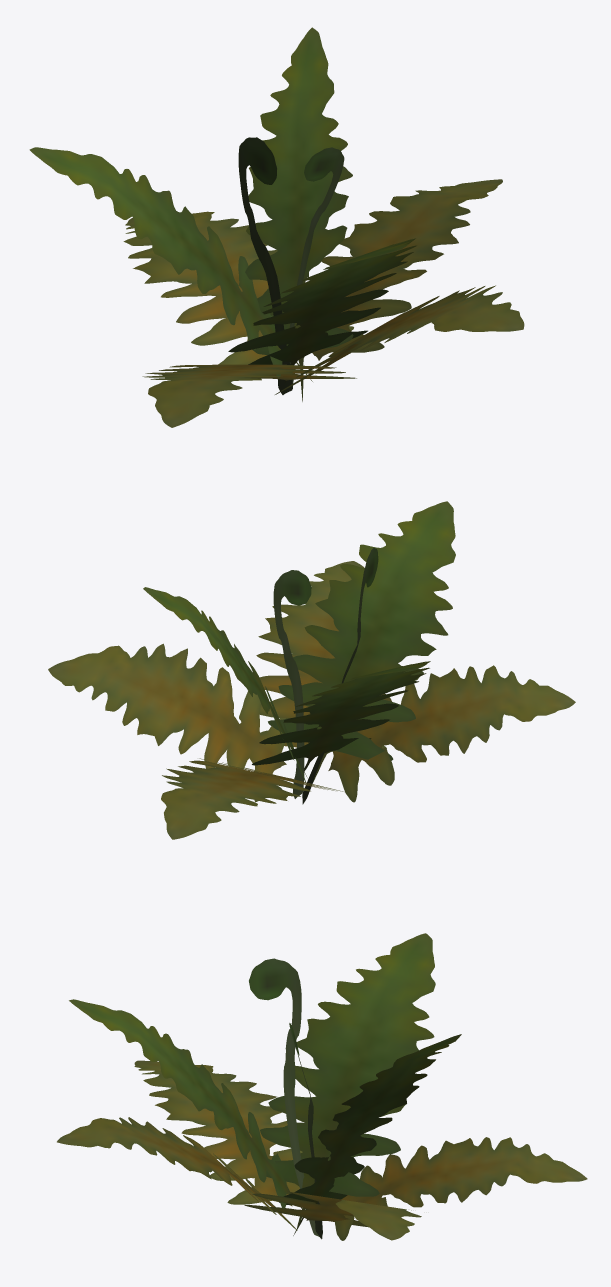
Rendered from Fern1.fbx.
3 renders of one model, top to bottom at view 1: azimuth 30°, elevation 25°; view 2: azimuth 150°, elevation 25°; view 3: azimuth 270°, elevation 25°, orthographic. The views are drawn at different scales.
Parts seen in each view (by area): view 1: Fern1; view 2: Fern1; view 3: Fern1.
Boxes of the visible parts, left/top/right/bottom form: Fern1: left=29, top=27, right=524, bottom=427; Fern1: left=48, top=501, right=575, bottom=839; Fern1: left=57, top=933, right=587, bottom=1240.
Bounding box in the file's own units: 222 × 141 × 222.
Materials: 1 (1 with a texture image).
